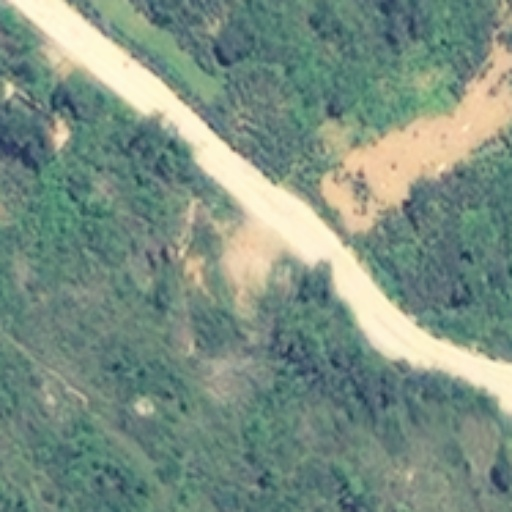landslide: (321, 34, 509, 235), (217, 221, 286, 301)
